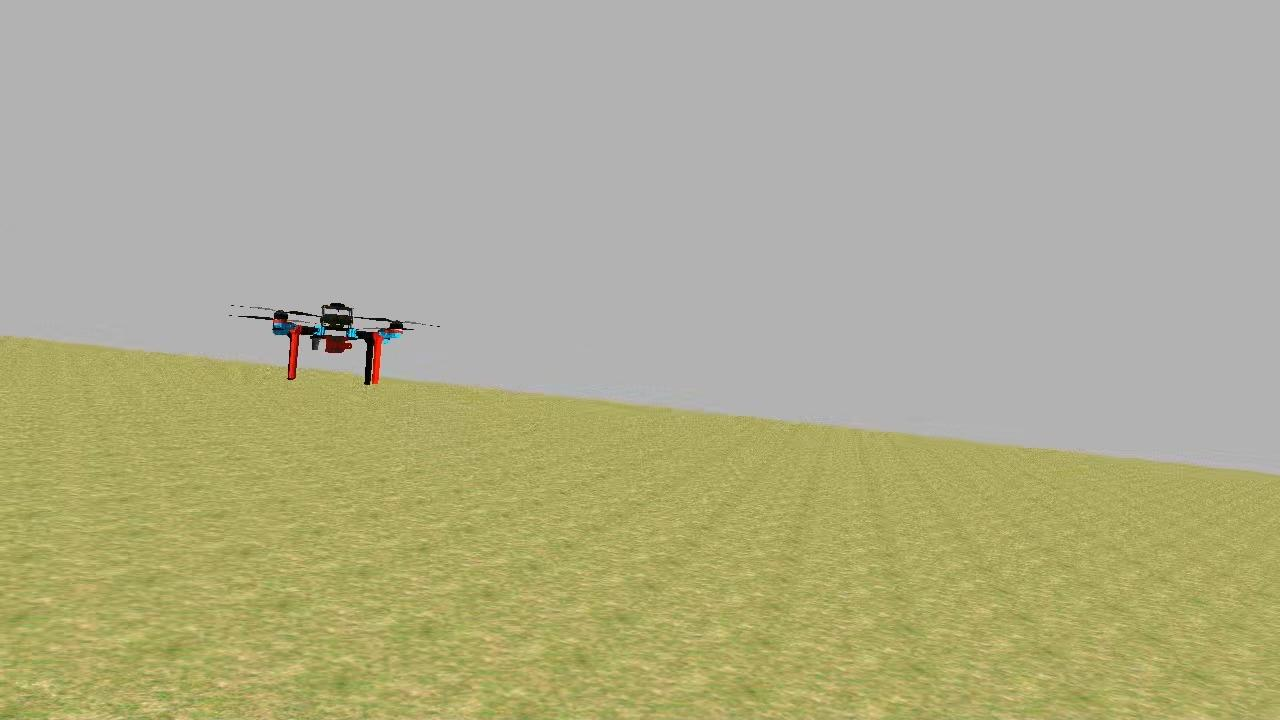UAV: (266, 300, 412, 390)
